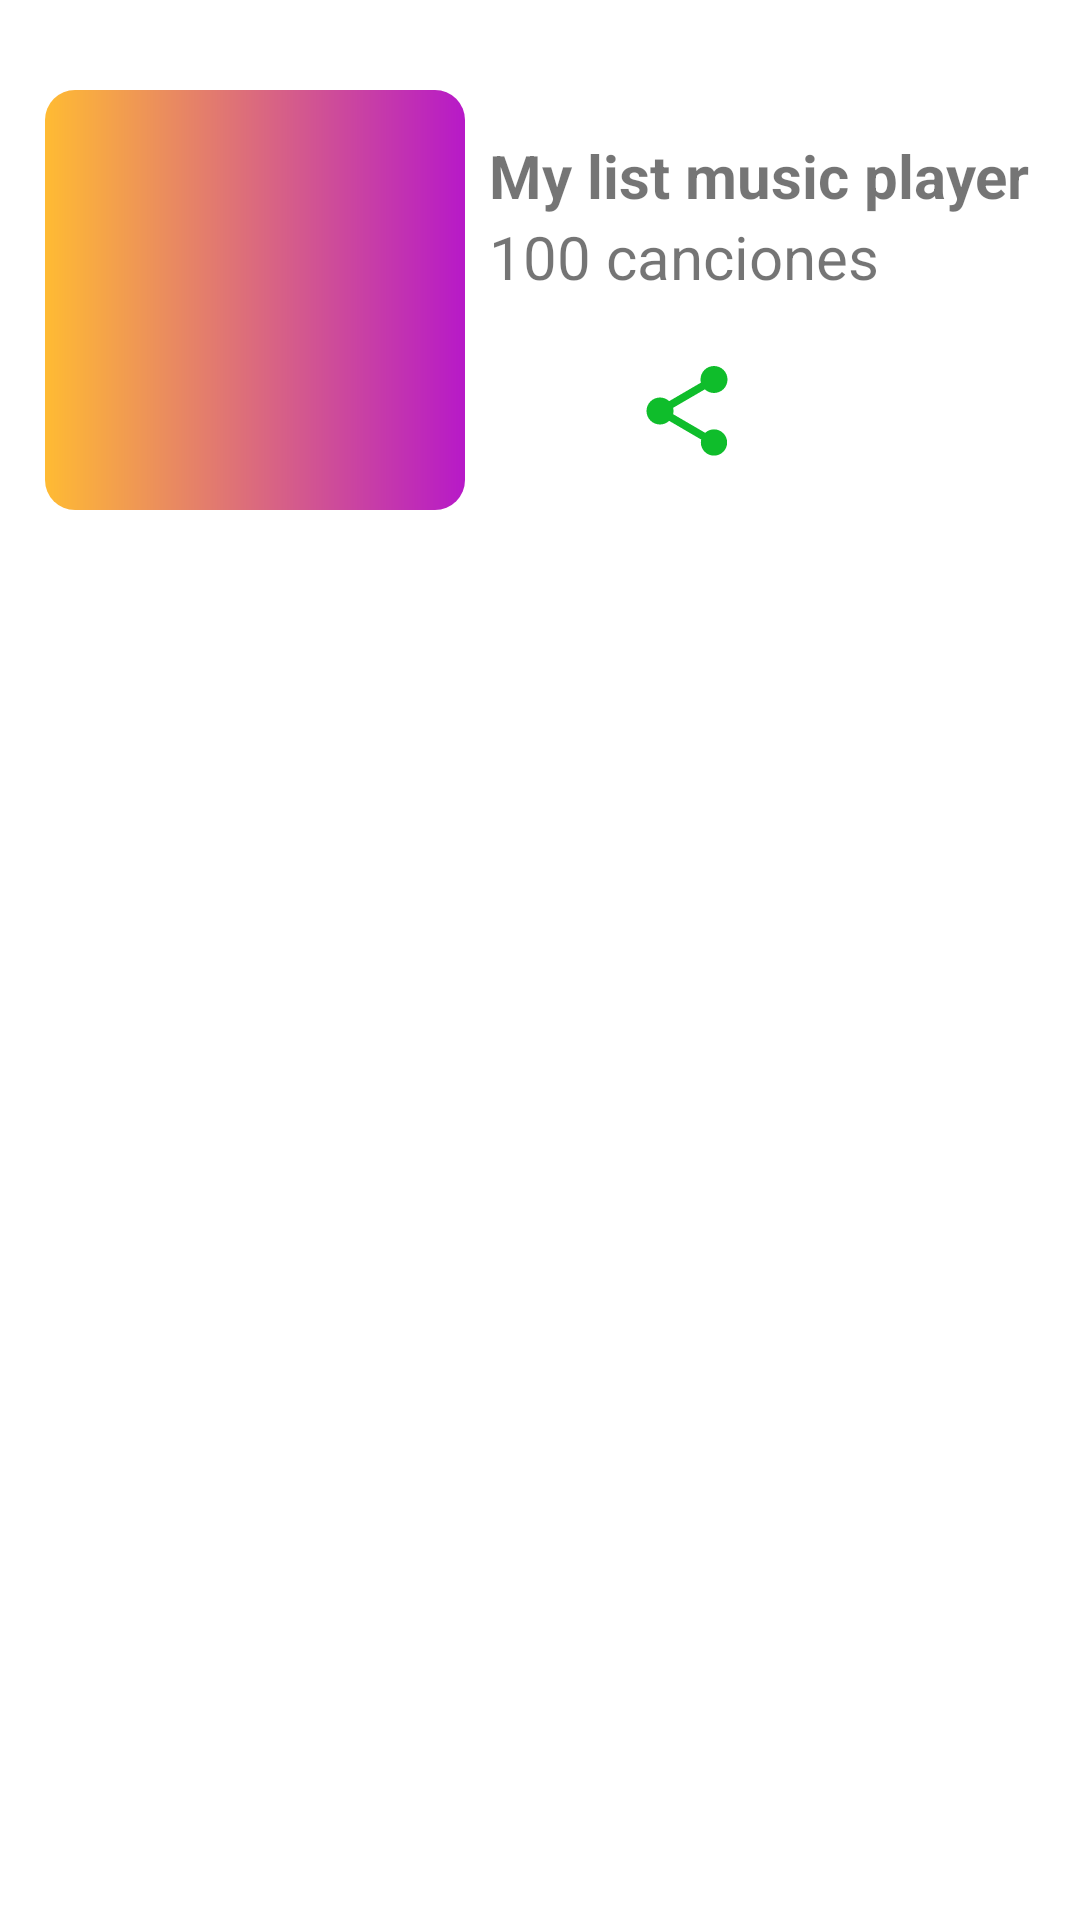

Icon bounding boxes for this 1080w x 1920h phone screenshot, format Rect(x1, y1, x2, y2):
share: Rect(646, 366, 728, 456)
